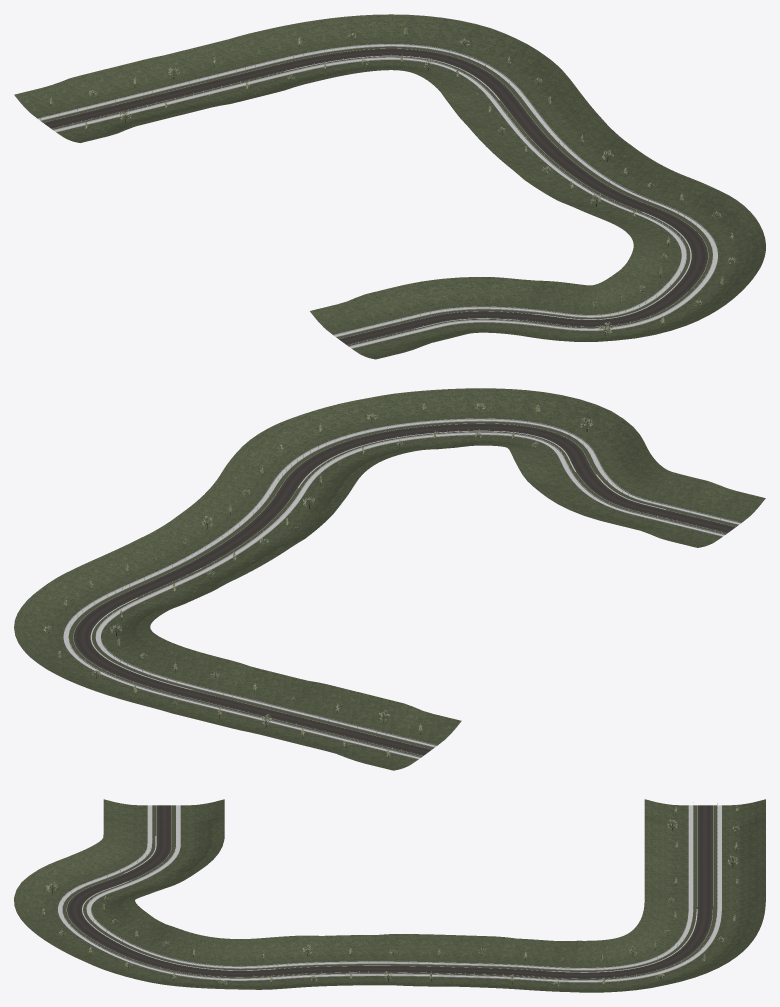
3 renders of one model, top to bottom at view 1: azimuth 30°, elevation 25°; view 2: azimuth 150°, elevation 25°; view 3: azimuth 270°, elevation 25°, orthographic. The views are drawn at different scales.
Visible parts, largest first — view 1: Grass, Road, Track, Trees, Curbs; view 2: Grass, Road, Track, Trees, Curbs; view 3: Grass, Road, Track, Trees, Curbs.
Boxes of the visible parts, x1=… form: Grass: x1=14, y1=14, x2=765, y2=359; Road: x1=43, y1=48, x2=707, y2=344; Track: x1=38, y1=43, x2=717, y2=348; Trees: x1=49, y1=26, x2=735, y2=335; Curbs: x1=288, y1=56, x2=691, y2=327; Grass: x1=14, y1=388, x2=765, y2=770; Road: x1=73, y1=423, x2=735, y2=755; Track: x1=63, y1=418, x2=740, y2=759; Trees: x1=44, y1=401, x2=592, y2=759; Curbs: x1=91, y1=431, x2=662, y2=689; Grass: x1=14, y1=799, x2=765, y2=992; Road: x1=67, y1=805, x2=712, y2=978; Track: x1=58, y1=802, x2=721, y2=982; Trees: x1=42, y1=804, x2=739, y2=987; Curbs: x1=82, y1=837, x2=697, y2=972.
Size of what is drawn, in the model's own units: 53318 by 2385 by 86840.
